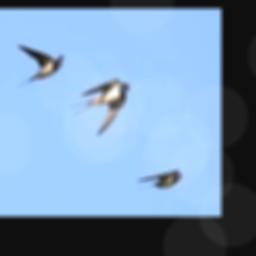Swallow: (69, 78, 129, 134), (17, 45, 62, 87), (136, 169, 181, 189)
